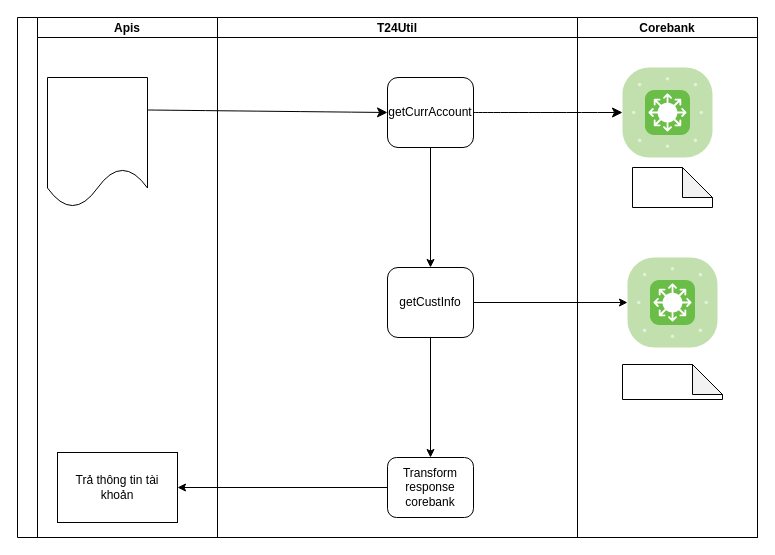
This 775x555 diagram has some shape labels left out. The shapes that lost their labels are listed below. From the top down, each one's centre as x and y in pixels, then its label:
At point (97, 142): "accountId".
At point (672, 187): "ACCOUNT".
At point (672, 382): "CUSTOMER".
